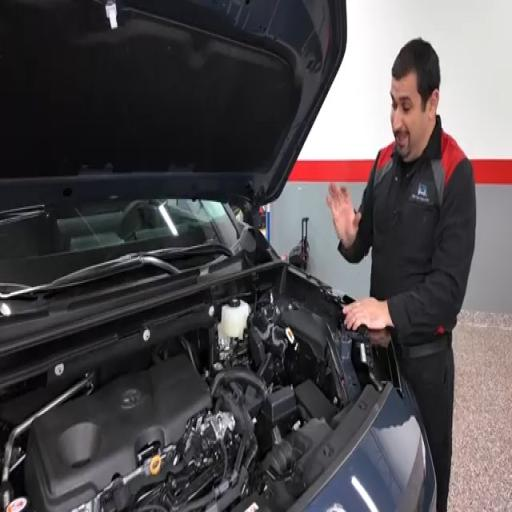bumper: (308, 392, 435, 511)
emblem: (122, 389, 141, 408), (327, 504, 345, 511)
hood: (0, 0, 346, 209)
windshield: (0, 200, 237, 285)
